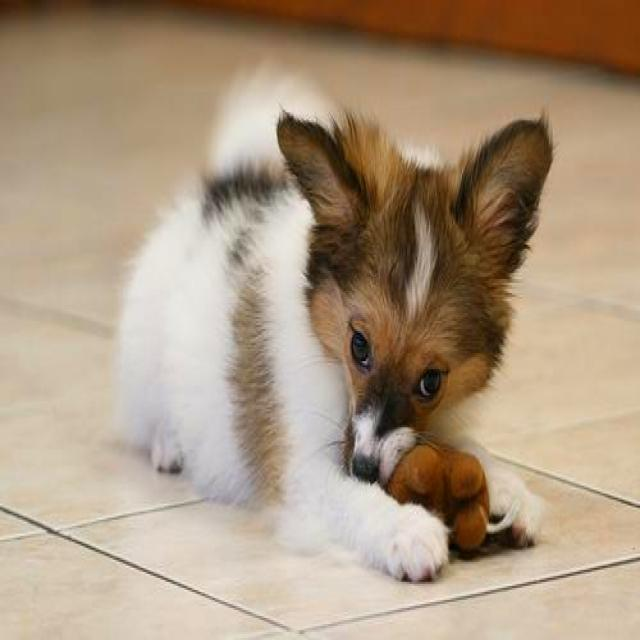papillon: (100, 46, 570, 594)
